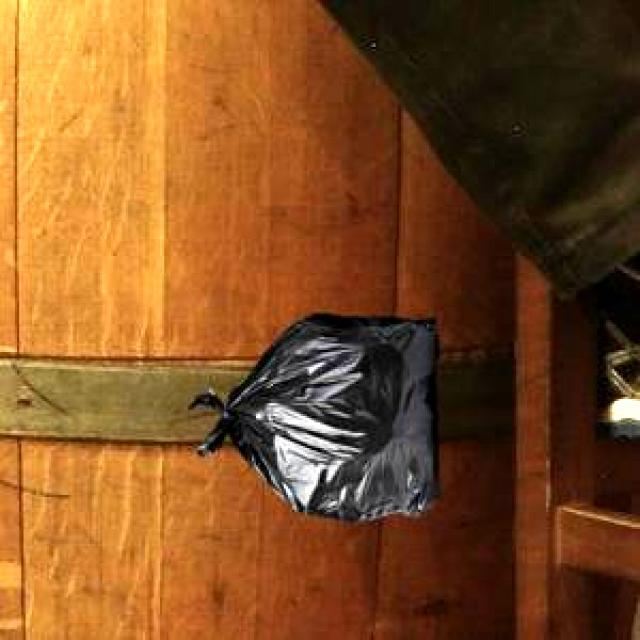Garbage_Bag: (188, 310, 436, 518)
